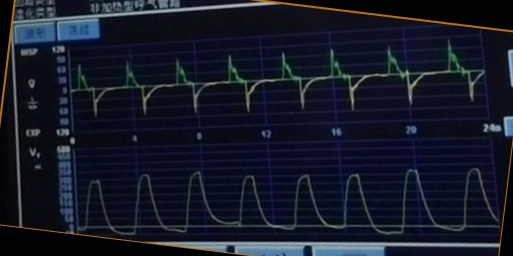Accumulation Flow: (74, 40, 484, 117)
Volume: (79, 163, 497, 239)
